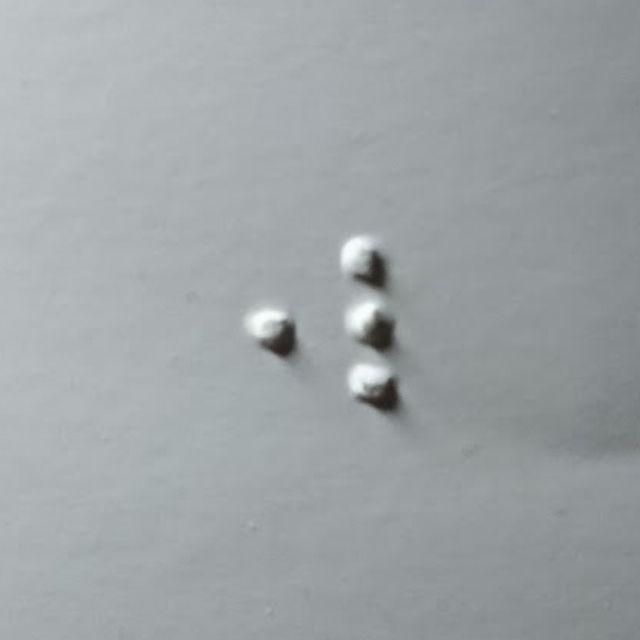dot_5: (183, 242, 298, 415)
larawan: (343, 239, 458, 413)
